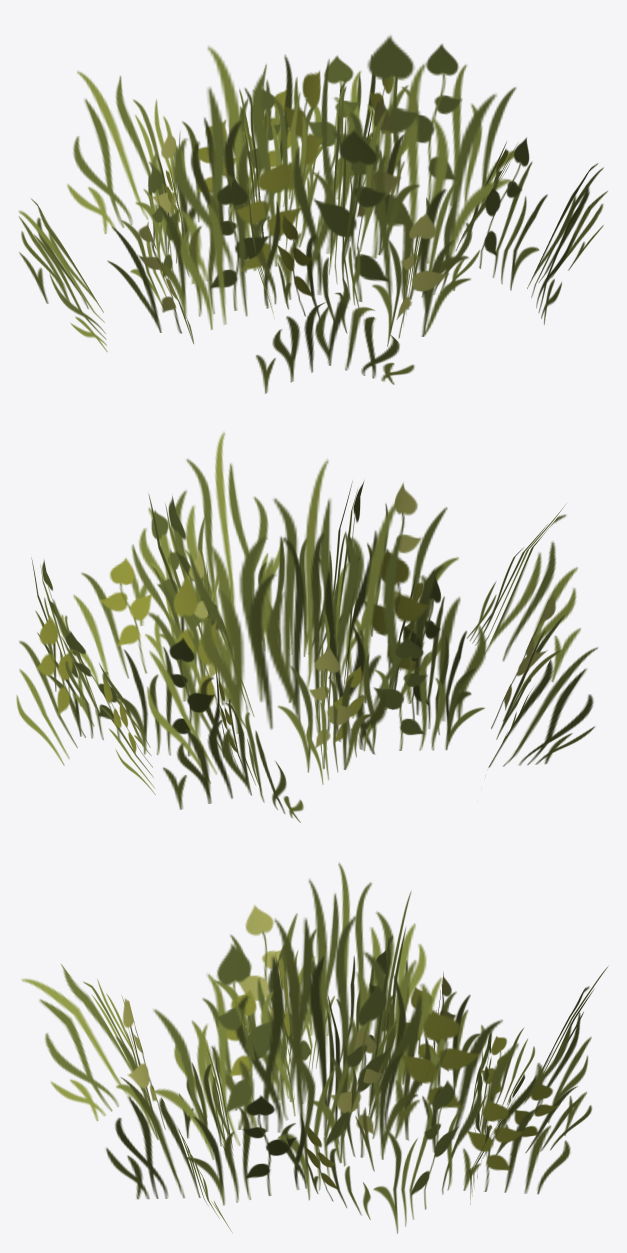
Rendered from Forest_Grass_3.glb.
The picture shows the model from 3 angles, top to bottom: view 1: azimuth 30°, elevation 25°; view 2: azimuth 150°, elevation 25°; view 3: azimuth 270°, elevation 25°; orthographic projection. The views are drawn at different scales.
Visible parts, largest first — view 1: Forest_Grass_3; view 2: Forest_Grass_3; view 3: Forest_Grass_3.
Boxes of the visible parts, x1=… form: Forest_Grass_3: x1=19, y1=35, x2=607, y2=393; Forest_Grass_3: x1=16, y1=432, x2=597, y2=822; Forest_Grass_3: x1=21, y1=862, x2=608, y2=1233.
Size of the model in its own units: 1.23 by 0.5283 by 1.23.
Materials: 1 (1 with a texture image).
